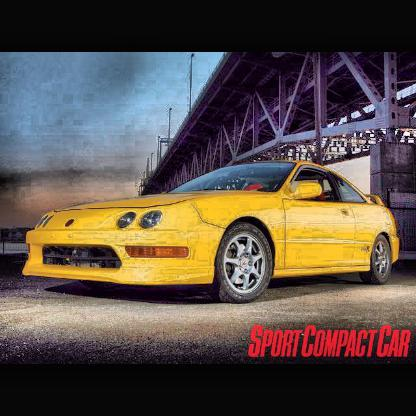Acura Integra Type R 2001: (24, 163, 399, 308)
